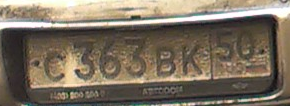character: (97, 36, 124, 79), (71, 39, 96, 82), (125, 34, 149, 78), (43, 51, 67, 85), (180, 44, 204, 77), (213, 27, 235, 62), (236, 27, 257, 63), (154, 47, 176, 76)
